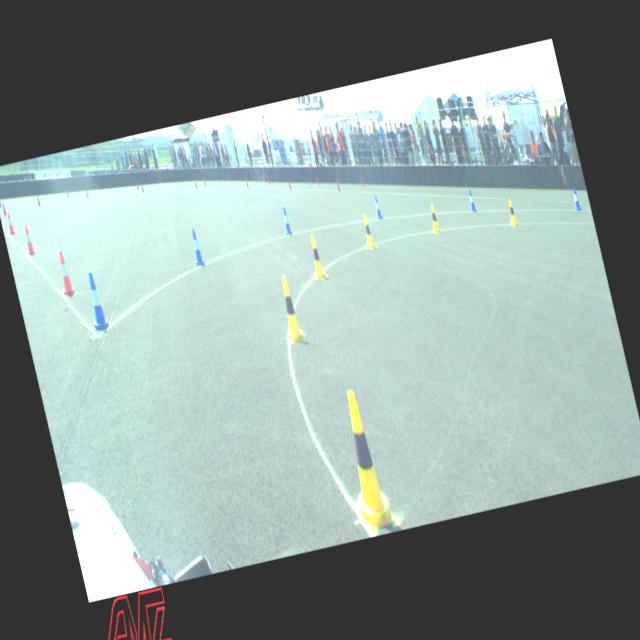blue_cone: (80, 269, 112, 333), (188, 226, 205, 266), (279, 205, 292, 234), (568, 186, 582, 212), (372, 194, 382, 220), (466, 188, 476, 212)
orange_cone: (54, 248, 76, 296), (21, 223, 36, 255), (4, 211, 15, 235)
yellow_cone: (330, 386, 398, 534), (274, 274, 306, 344), (305, 233, 327, 280), (359, 214, 376, 250), (426, 203, 441, 234), (504, 197, 518, 226)
